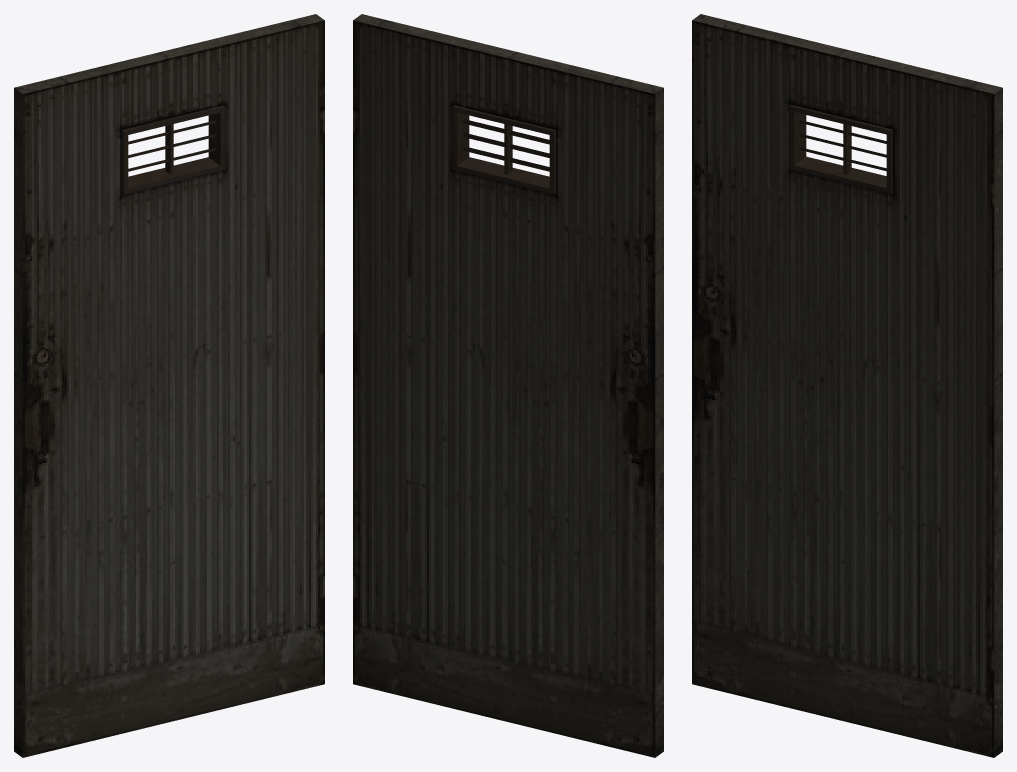
File: door_hr_8.glb
3 renders of one model, left to right at view 1: azimuth 30°, elevation 25°; view 2: azimuth 150°, elevation 25°; view 3: azimuth 330°, elevation 25°, orthographic.
Parts seen in each view (by area): view 1: door_hr_8; view 2: door_hr_8; view 3: door_hr_8.
Boxes of the visible parts, x1,y1,x2,y2 form: door_hr_8: (14, 14, 324, 757); door_hr_8: (353, 14, 663, 757); door_hr_8: (692, 14, 1002, 757).
Bounding box in the file's own units: 1 × 2.1 × 0.07.
2 materials, 2 textured.
